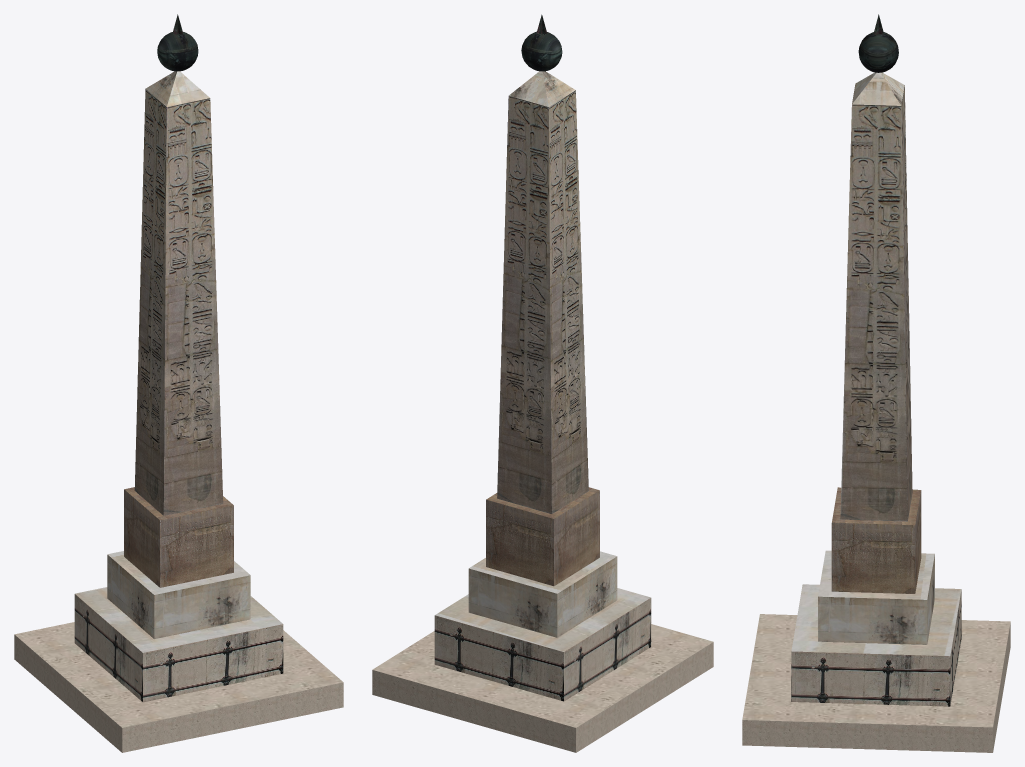
3 renders of one model, left to right at view 1: azimuth 30°, elevation 25°; view 2: azimuth 150°, elevation 25°; view 3: azimuth 270°, elevation 25°, orthographic. The views are drawn at different scales.
Parts seen in each view (by area): view 1: SketchUp (×10); view 2: SketchUp (×10); view 3: SketchUp (×10).
Part boxes in pixels (box(x1,y1,x2,y2)): SketchUp (×10): box(14, 32, 343, 752); SketchUp (×10): box(372, 31, 713, 752); SketchUp (×10): box(742, 32, 1010, 752).
Bounding box in the file's own units: 254 × 254 × 711.
Materials: 13 (12 with a texture image).
